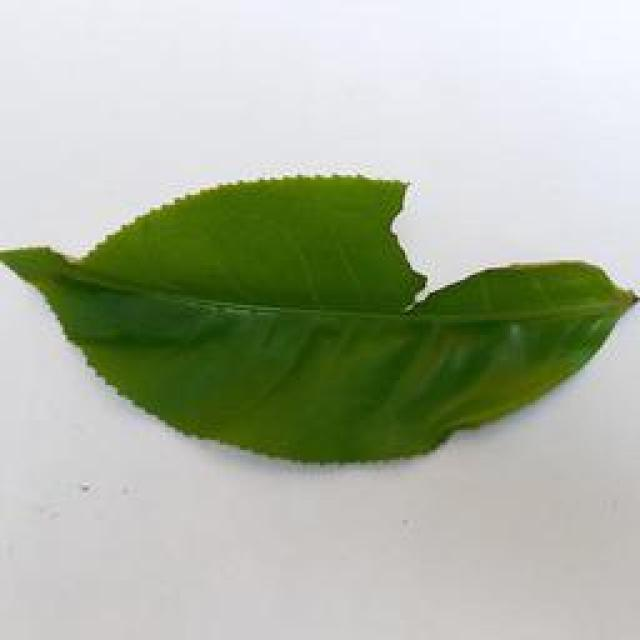Healthy: (6, 170, 640, 465)
